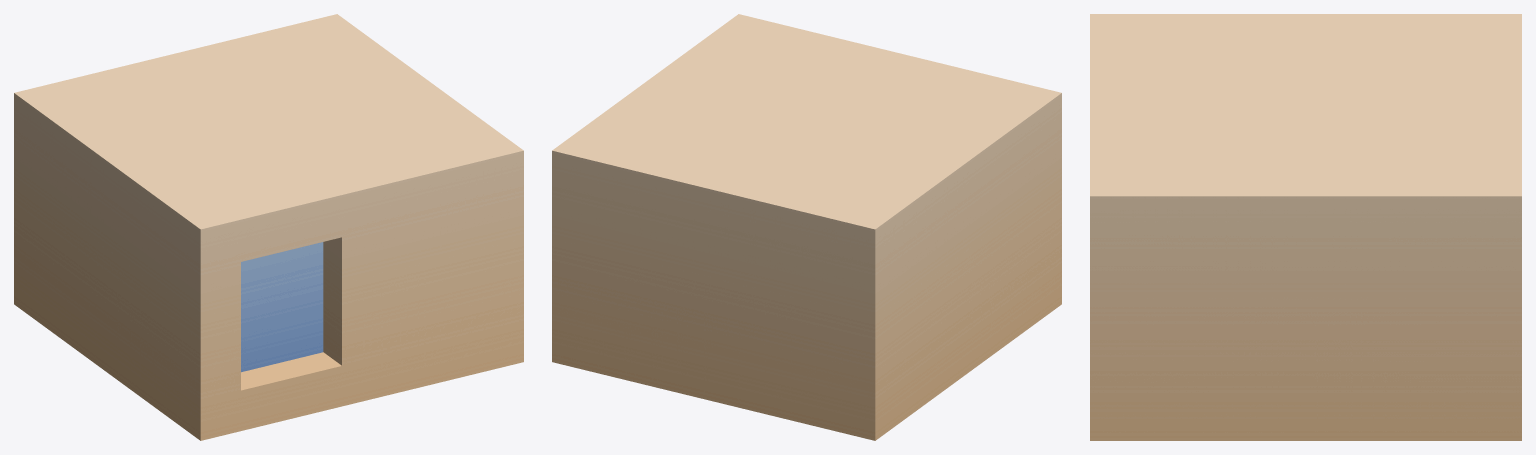
3 renders of one model, left to right at view 1: azimuth 30°, elevation 25°; view 2: azimuth 150°, elevation 25°; view 3: azimuth 270°, elevation 25°, orthographic. The views are drawn at different scales.
Visible parts, largest first — view 1: building-window-left; view 2: building-window-left; view 3: building-window-left.
Part boxes in pixels (left/top/right/bottom): building-window-left: left=14, top=14, right=523, bottom=440; building-window-left: left=552, top=14, right=1061, bottom=440; building-window-left: left=1090, top=14, right=1521, bottom=440.
Size of the model in its own units: 1 by 0.625 by 1.
1 material, 1 textured.
